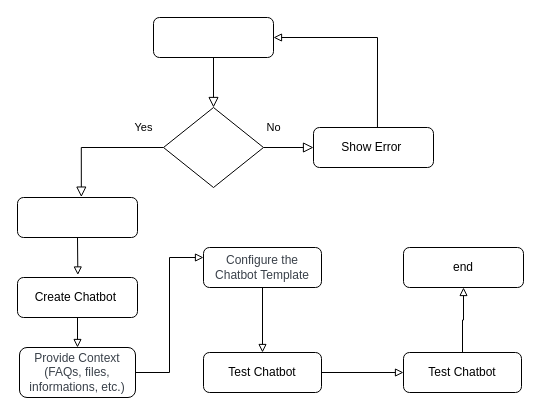
Image size: 541x415. Some labels were removed from this diagram. Each missing label, with the box of its shape:
Create account: (16, 196, 138, 238)
start: (152, 16, 274, 58)
Valid Email: (162, 106, 264, 188)
